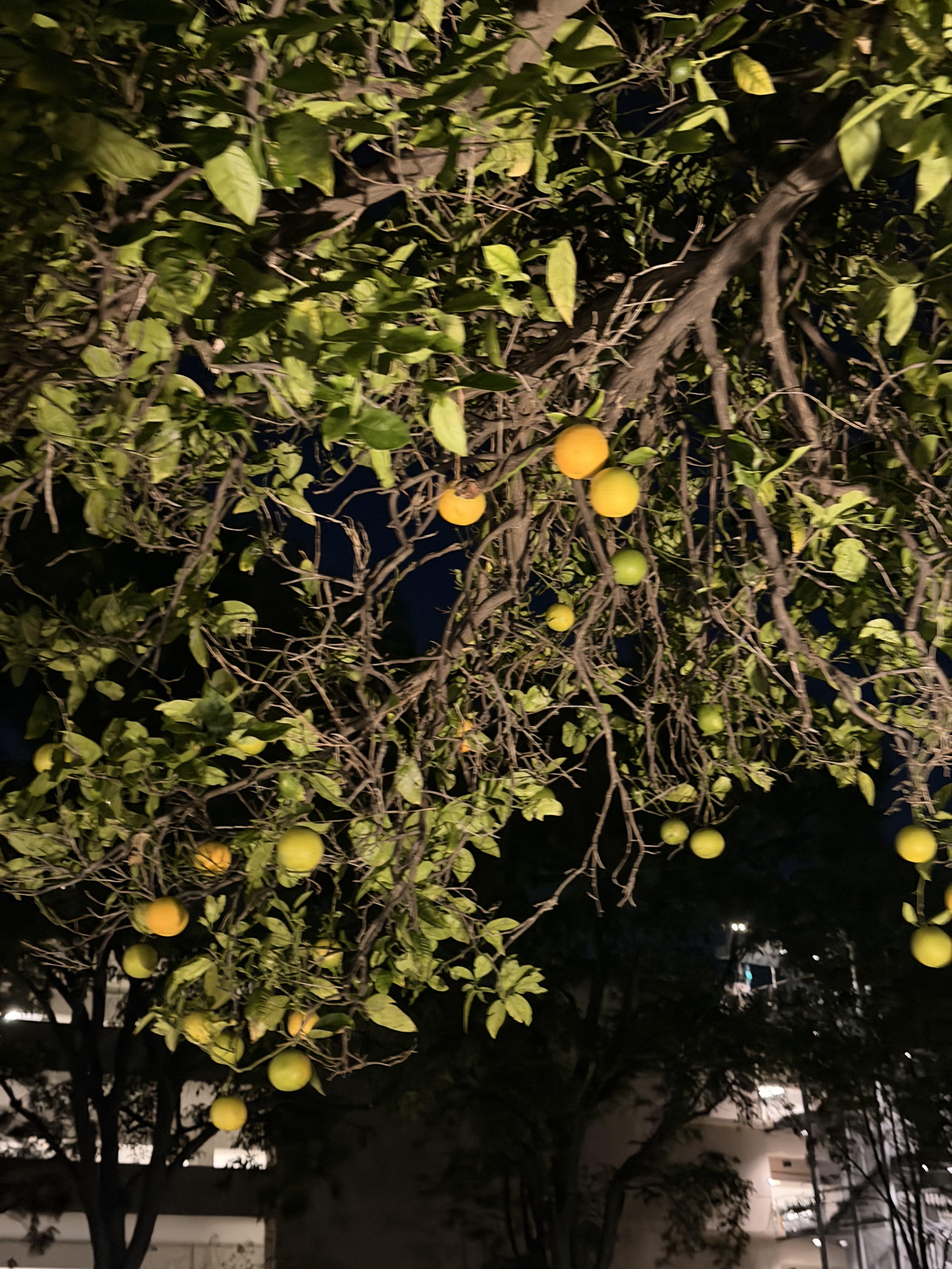orange: (554, 424, 609, 479), (589, 468, 639, 518), (437, 480, 486, 526), (277, 827, 323, 875), (267, 1048, 313, 1091), (910, 925, 952, 967), (145, 897, 188, 937), (895, 825, 937, 863), (228, 718, 267, 756), (610, 549, 647, 585), (209, 1096, 247, 1131), (122, 943, 158, 979), (209, 1029, 244, 1065), (195, 841, 232, 872), (34, 744, 74, 772), (689, 828, 725, 859), (182, 1012, 210, 1045), (313, 938, 343, 968), (286, 1009, 318, 1036), (545, 603, 574, 632), (698, 704, 725, 735), (660, 818, 689, 844), (454, 719, 474, 753), (131, 901, 150, 933), (944, 884, 952, 912)
